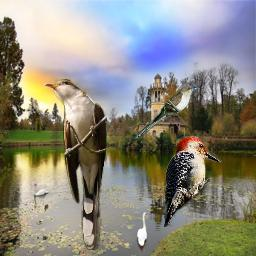Cuckoo: (44, 79, 108, 250), (133, 85, 199, 141)
Woodpecker: (164, 136, 223, 227)
